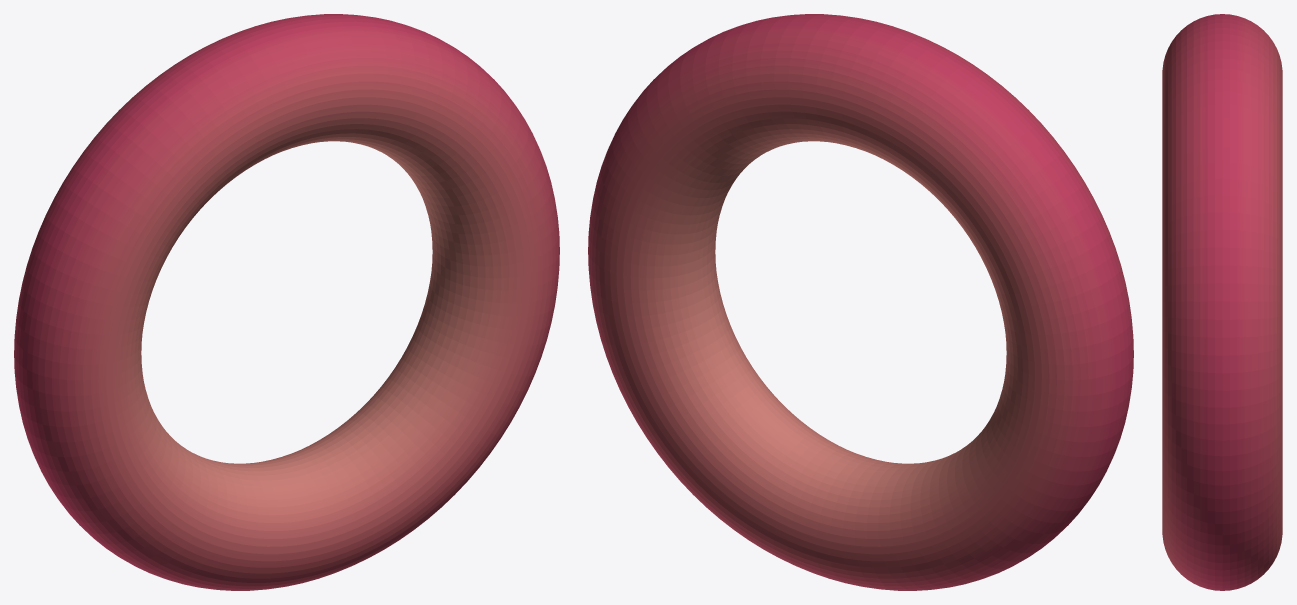
The picture shows the model from 3 angles, left to right: view 1: azimuth 30°, elevation 25°; view 2: azimuth 150°, elevation 25°; view 3: azimuth 270°, elevation 25°; orthographic projection. The views are drawn at different scales.
Parts seen in each view (by area): view 1: world; view 2: world; view 3: world.
Part boxes in pixels (<box>): world: <box>14,14,559,590</box>; world: <box>588,14,1133,590</box>; world: <box>1162,14,1282,590</box>.
Bounding box in the file's own units: 18.53 × 18.53 × 3.86.
